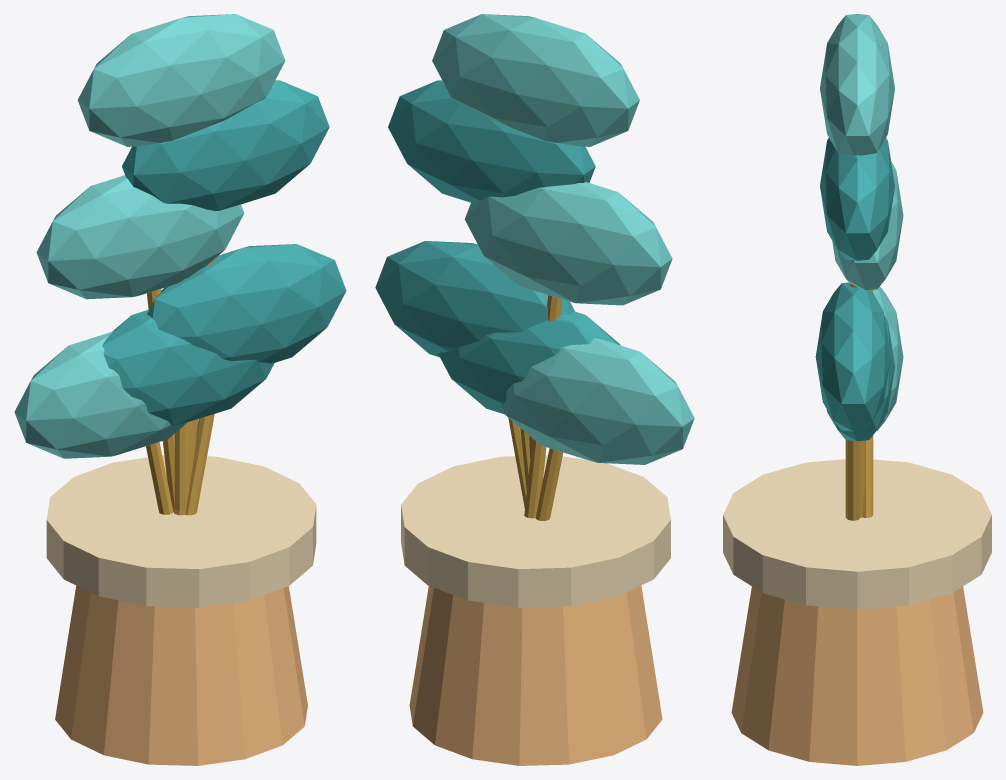
The model's file is TallHouseplant.fbx.
The picture shows the model from 3 angles, left to right: view 1: azimuth 30°, elevation 25°; view 2: azimuth 150°, elevation 25°; view 3: azimuth 270°, elevation 25°; orthographic projection.
Parts seen in each view (by area): view 1: Plant_Pot, Plant_Rim, Plant_Leaf.005, Plant_Leaf.003, Plant_Leaf.002, Plant_Leaf.004, Plant_Leaf.001, Plant_Leaf, Plant_Stem.002, Plant_Stem, Plant_Stem.001, Plant_Stem.003 (+1 smaller); view 2: Plant_Pot, Plant_Rim, Plant_Leaf.005, Plant_Leaf.003, Plant_Leaf.001, Plant_Leaf.004, Plant_Leaf.002, Plant_Leaf, Plant_Stem.003, Plant_Stem.001, Plant_Stem.002; view 3: Plant_Pot, Plant_Rim, Plant_Leaf.002, Plant_Leaf.005, Plant_Leaf.004, Plant_Leaf.003, Plant_Stem.002, Plant_Leaf.001, Plant_Leaf, Plant_Stem.003.
Part boxes in pixels (<box>): Plant_Pot: <box>55,585,307,765</box>; Plant_Rim: <box>46,455,316,607</box>; Plant_Leaf.005: <box>77,14,285,146</box>; Plant_Leaf.003: <box>36,175,244,299</box>; Plant_Leaf.002: <box>147,244,346,363</box>; Plant_Leaf.004: <box>122,80,329,211</box>; Plant_Leaf.001: <box>14,331,187,458</box>; Plant_Leaf: <box>102,309,274,426</box>; Plant_Stem.002: <box>185,414,214,515</box>; Plant_Stem: <box>174,422,188,514</box>; Plant_Stem.001: <box>146,442,173,514</box>; Plant_Stem.003: <box>146,289,174,511</box>; Plant_Pot: <box>409,586,662,765</box>; Plant_Rim: <box>401,455,670,607</box>; Plant_Leaf.005: <box>432,14,639,146</box>; Plant_Leaf.003: <box>464,182,672,305</box>; Plant_Leaf.001: <box>500,338,694,464</box>; Plant_Leaf.004: <box>388,80,595,202</box>; Plant_Leaf.002: <box>375,241,574,357</box>; Plant_Leaf: <box>438,311,620,414</box>; Plant_Stem.003: <box>524,295,562,518</box>; Plant_Stem.001: <box>535,448,563,520</box>; Plant_Stem.002: <box>508,418,526,508</box>; Plant_Pot: <box>731,586,983,765</box>; Plant_Rim: <box>723,459,991,609</box>; Plant_Leaf.002: <box>815,282,890,431</box>; Plant_Leaf.005: <box>820,14,894,155</box>; Plant_Leaf.004: <box>820,138,894,260</box>; Plant_Leaf.003: <box>832,162,903,290</box>; Plant_Stem.002: <box>845,440,860,520</box>; Plant_Leaf.001: <box>873,286,903,430</box>; Plant_Leaf: <box>826,315,894,441</box>; Plant_Stem.003: <box>861,289,873,517</box>.
Size of the model in its own units: 85.26 by 180 by 64.
